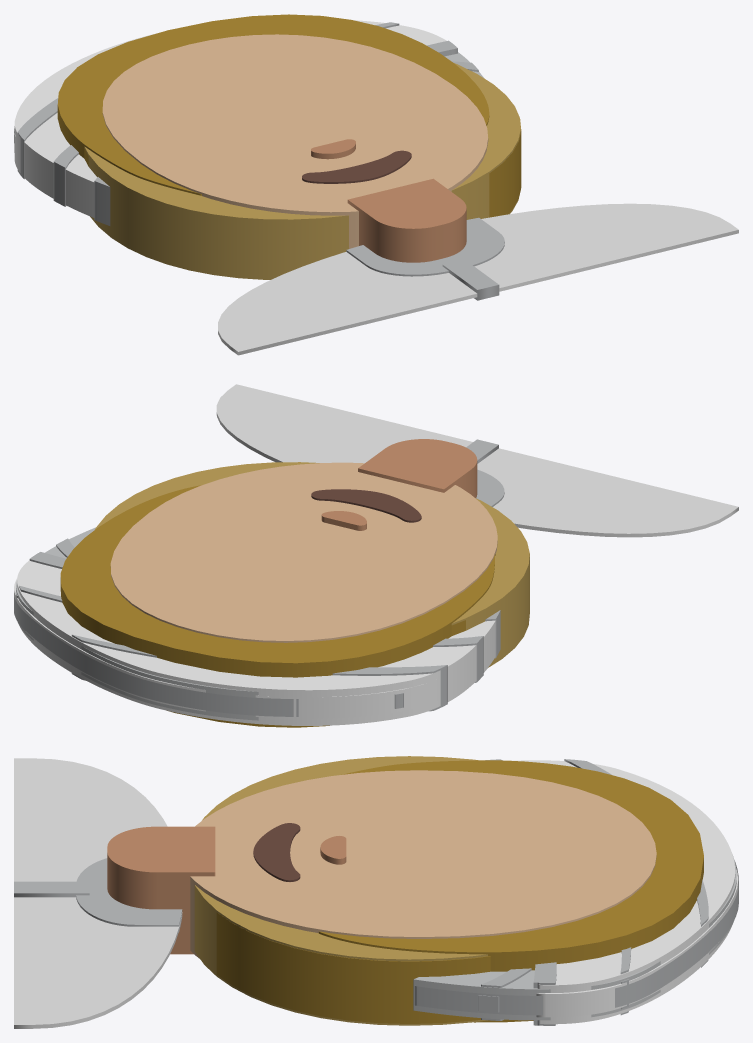
The model's file is emoji_u1f473_1f3fc_200d_2640.glb.
3 renders of one model, top to bottom at view 1: azimuth 30°, elevation 25°; view 2: azimuth 150°, elevation 25°; view 3: azimuth 270°, elevation 25°, orthographic. The views are drawn at different scales.
Visible parts, largest first — view 1: emoji_u1f473_1f3fc_200d_2640; view 2: emoji_u1f473_1f3fc_200d_2640; view 3: emoji_u1f473_1f3fc_200d_2640.
Boxes of the visible parts, <box> form: emoji_u1f473_1f3fc_200d_2640: <box>14,14,738,355</box>; emoji_u1f473_1f3fc_200d_2640: <box>14,384,738,727</box>; emoji_u1f473_1f3fc_200d_2640: <box>14,756,738,1028</box>.
Size of the model in its own units: 0.0294 by 0.0044 by 0.0337.
